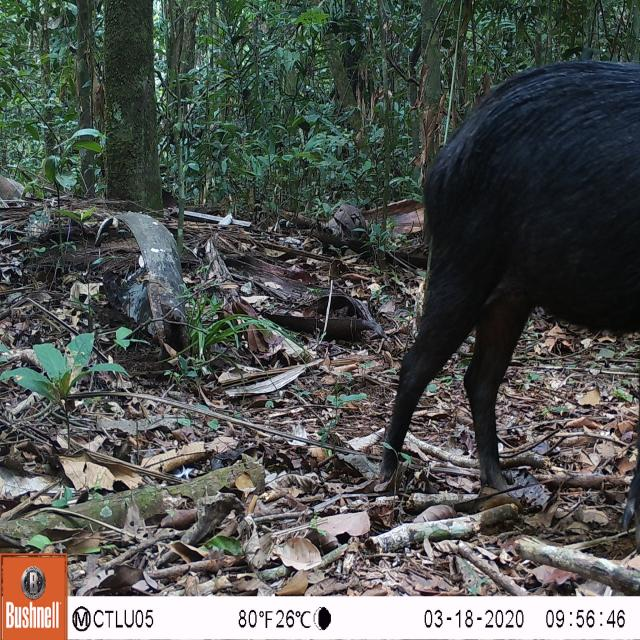White-lipped Peccary: (373, 54, 640, 503)
